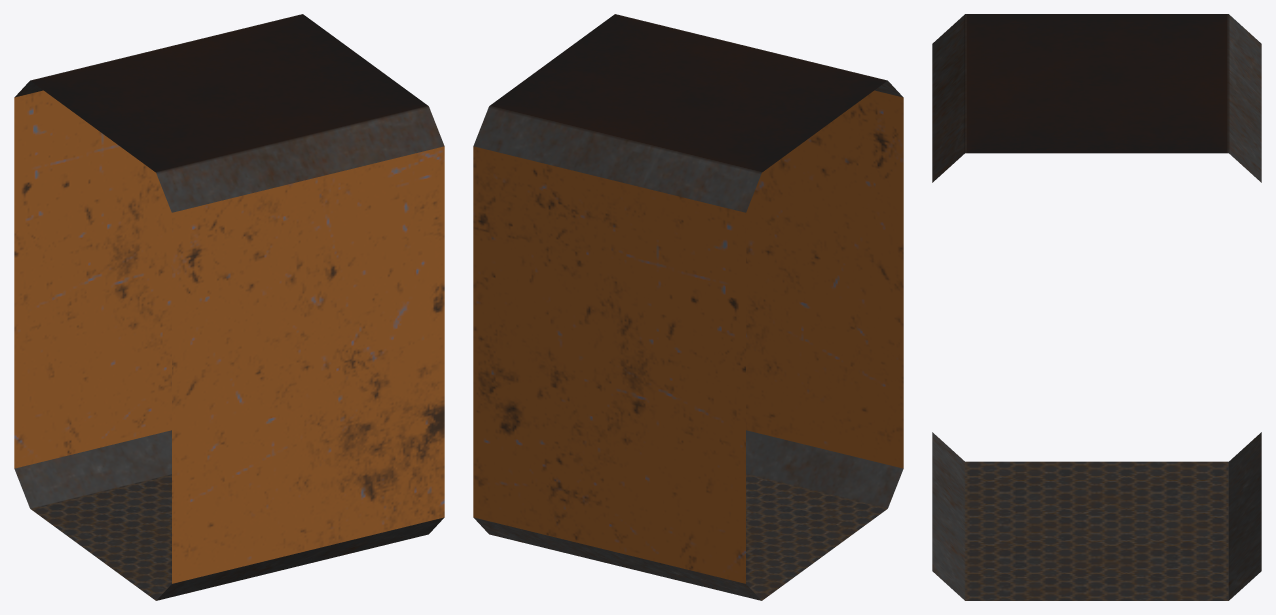
Rendered from FloorStraight.fbx.
The picture shows the model from 3 angles, left to right: view 1: azimuth 30°, elevation 25°; view 2: azimuth 150°, elevation 25°; view 3: azimuth 270°, elevation 25°; orthographic projection. The views are drawn at different scales.
Parts seen in each view (by area): view 1: FloorStraight; view 2: FloorStraight; view 3: FloorStraight.
Boxes of the visible parts, x1,y1,x2,y2 form: FloorStraight: (14, 14, 444, 600); FloorStraight: (473, 14, 903, 600); FloorStraight: (932, 14, 1261, 600).
Bounding box in the file's own units: 200 × 300 × 200.
Materials: 1 (1 with a texture image).
